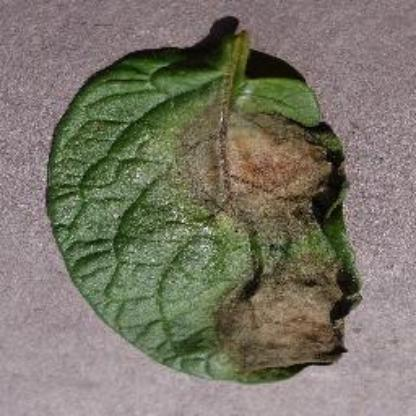Late-Blight: (42, 24, 364, 388)
